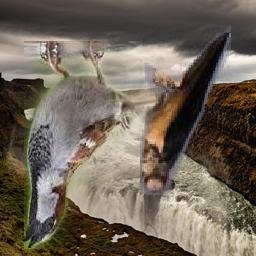Sparrow: (24, 41, 162, 249)
Swallow: (141, 25, 232, 195)
